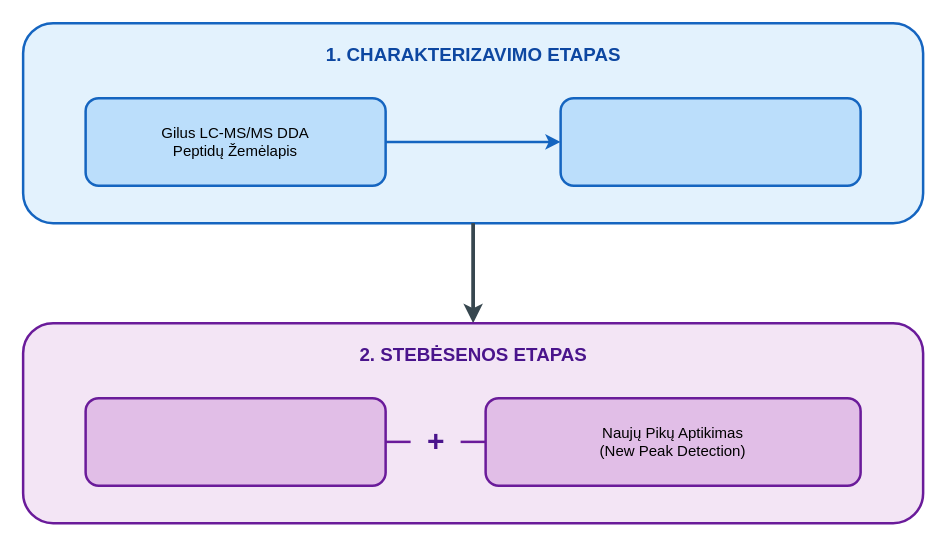
Some shapes in this 945 by 545 pixel diagram are drawn without their labels. Here are the shapes that lost their labels. From the top down, the centre of each, then its label:
At (710,141): "CQA/PQA Nustatymas".
At (235,441): "Tikslinė MS1 EIC Kiekybinė CQA analizė".
